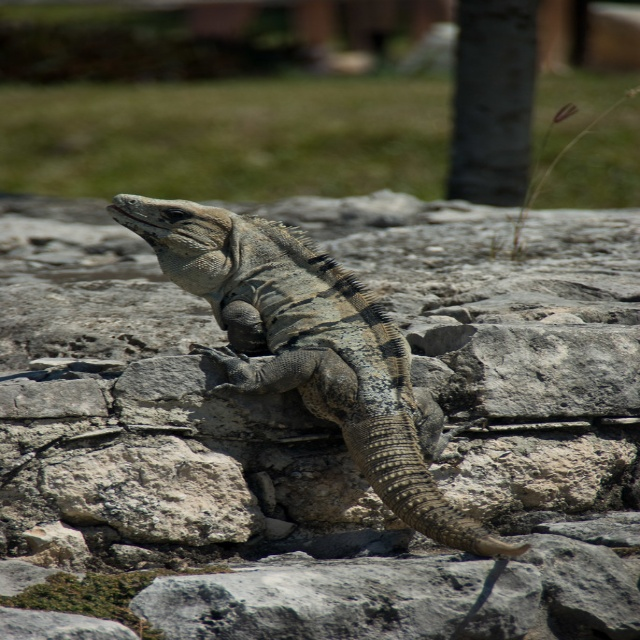Lizard: (106, 193, 530, 556)
